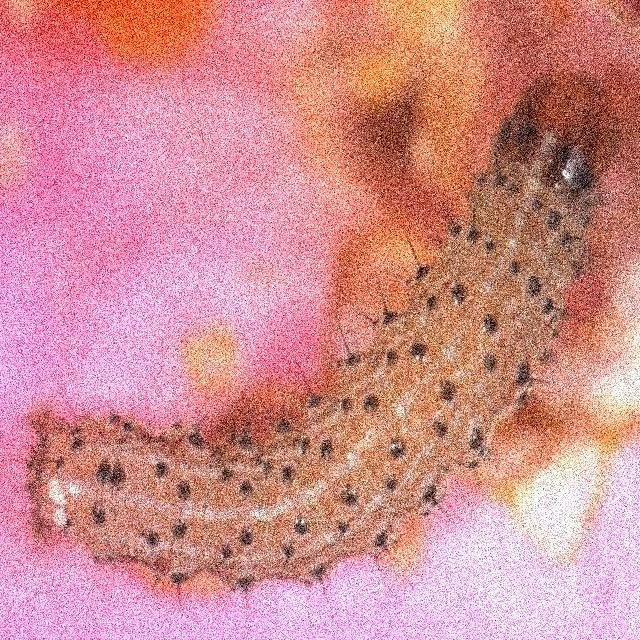gusano_cogollero: (18, 64, 618, 593)
